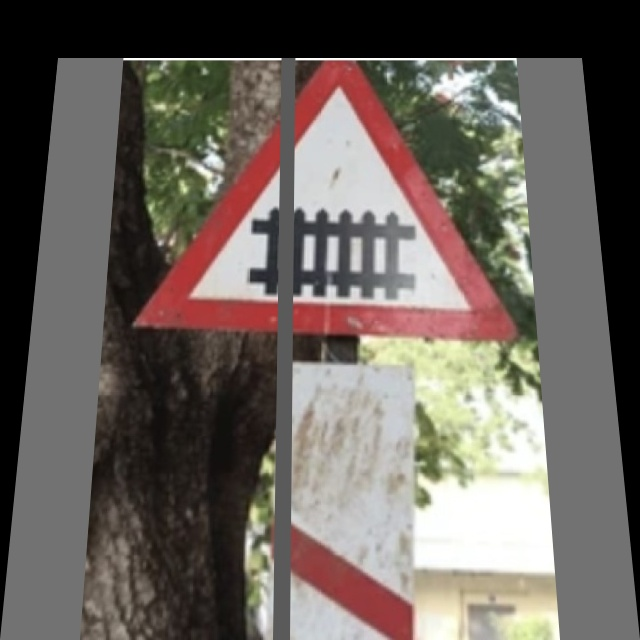Guarded_Level_Crossing: (151, 74, 500, 331)
